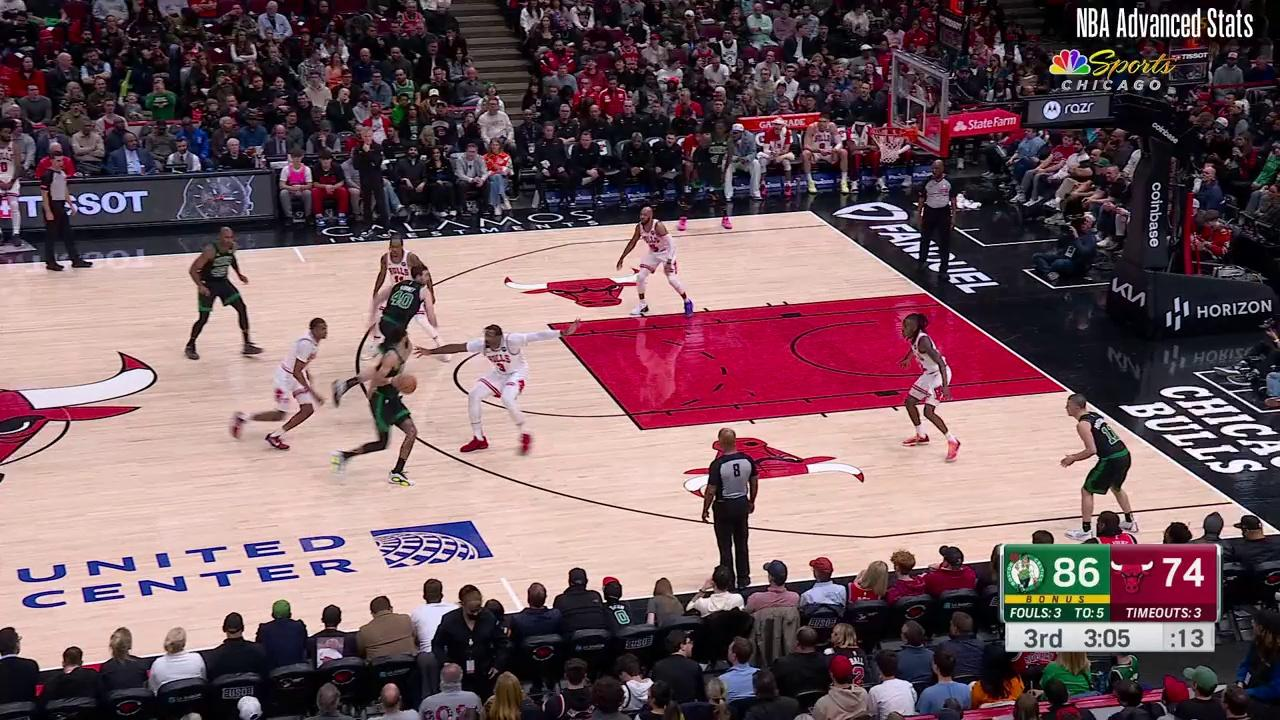3_dx: (1227, 496, 1241, 509)
3_sx: (824, 220, 833, 229)
b_sx: (806, 207, 815, 216)
free_adx: (634, 422, 647, 435)
free_asx: (541, 320, 554, 330)
free_bdx: (1063, 386, 1074, 395)
free_bsx: (921, 288, 932, 298)
mid_dx: (496, 571, 509, 583)
mid_sx: (297, 256, 310, 268)
referee: (699, 426, 762, 583), (41, 152, 98, 272), (908, 159, 962, 280)
team: (333, 265, 438, 409), (329, 330, 415, 487), (1056, 390, 1139, 543), (187, 224, 266, 362), (674, 123, 736, 232)
team1: (417, 325, 583, 453), (230, 317, 327, 450), (360, 234, 453, 362), (897, 310, 969, 462), (617, 207, 693, 317)
timer: (1080, 621, 1135, 653)
